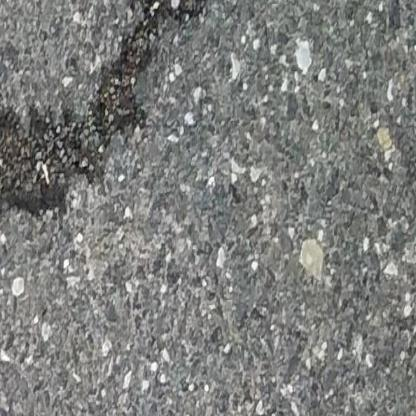Cracks: (0, 0, 249, 226)
